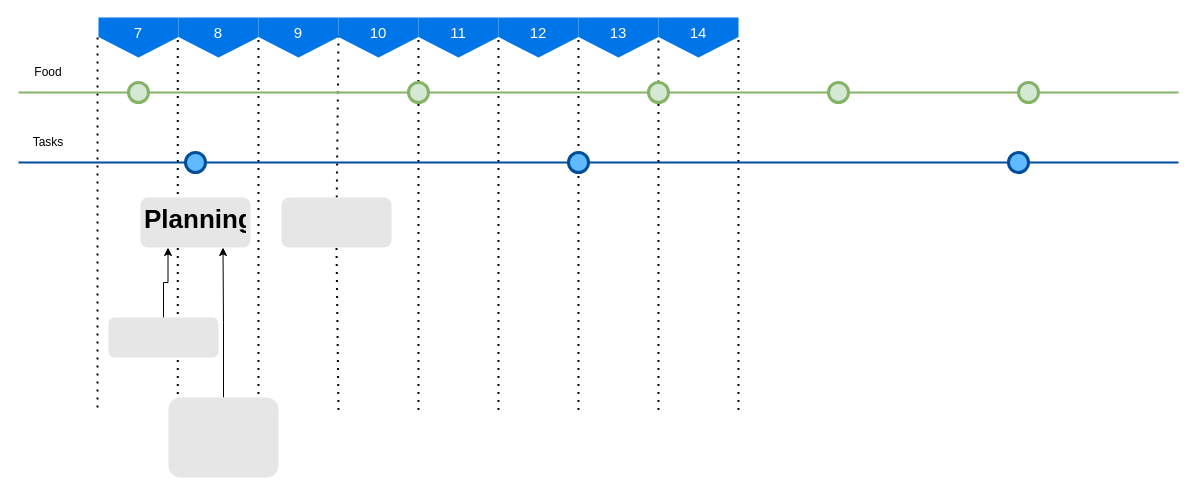
Image size: 1196x494. Some labels were removed from this diagram. The shapes that lost their labels are listed below. From the top down, each one's centre as x and y in pixels, then its label:
(336,222): Registr
(163,337): Timeline
(223,437): Structure Subtasks
